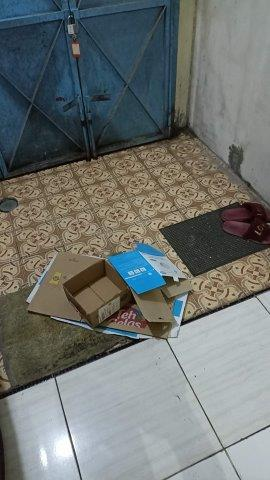kardus: (31, 246, 180, 338)
